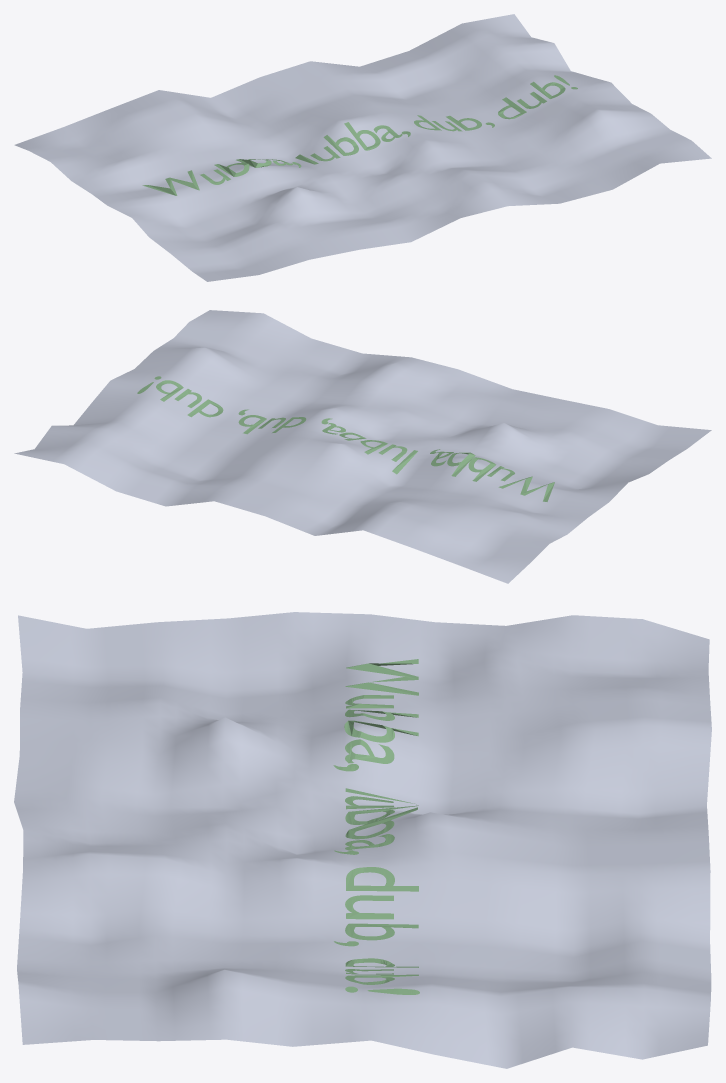
Rendered from papertext3.fbx.
3 views of the same model, one above another, from view 1: azimuth 30°, elevation 25°; view 2: azimuth 150°, elevation 25°; view 3: azimuth 270°, elevation 25° (orthographic). The views are drawn at different scales.
Parts seen in each view (by area): view 1: Plane, Text; view 2: Plane, Text; view 3: Plane, Text.
Boxes of the visible parts, x1,y1,x2,y2 form: Plane: (14, 14, 711, 281); Text: (142, 75, 577, 195); Plane: (14, 310, 711, 583); Text: (137, 376, 554, 501); Plane: (14, 612, 711, 1068); Text: (333, 659, 419, 994).
Bounding box in the file's own units: 134 × 9.14 × 91.91.
